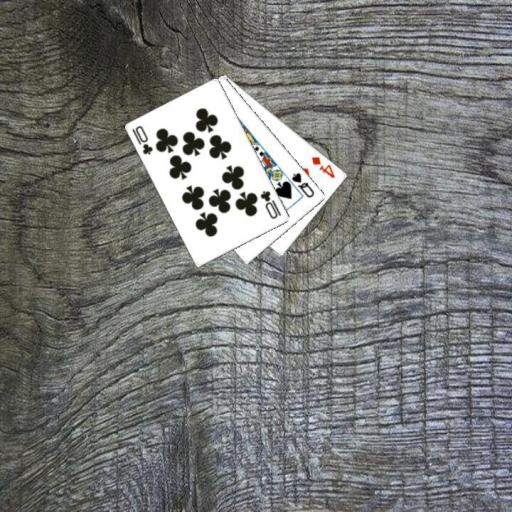10C: (257, 187, 283, 220), (129, 123, 154, 157)
4D: (309, 154, 336, 180)
QS: (289, 169, 316, 199)
